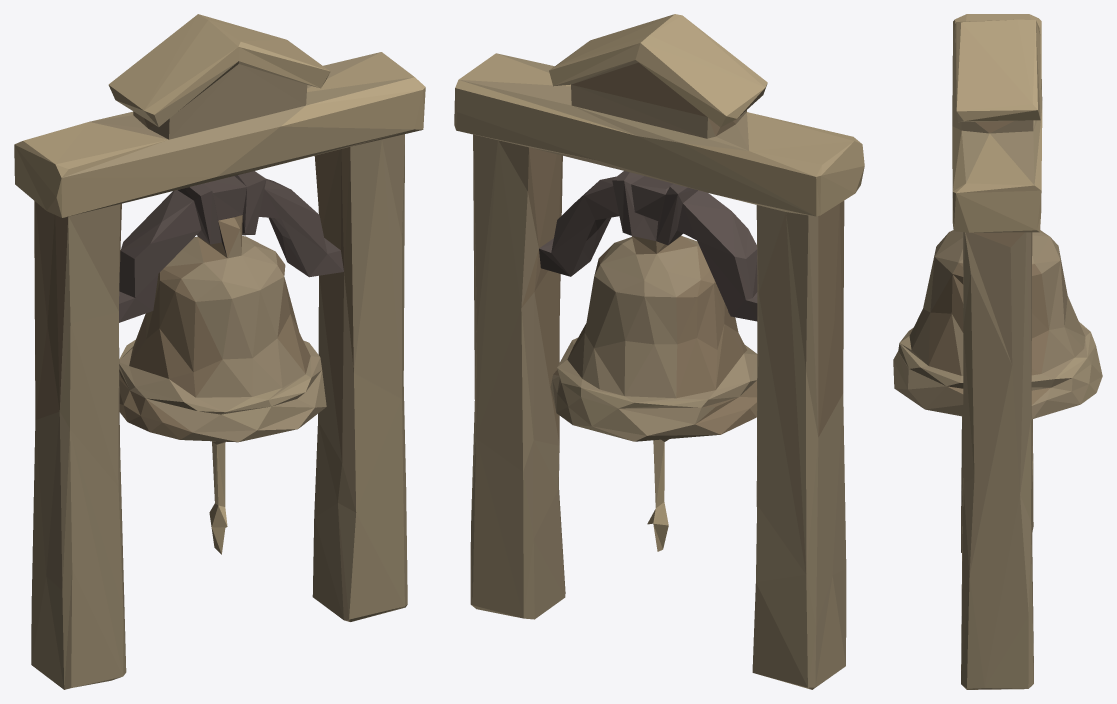
File: bell.glb
The picture shows the model from 3 angles, left to right: view 1: azimuth 30°, elevation 25°; view 2: azimuth 150°, elevation 25°; view 3: azimuth 270°, elevation 25°; orthographic projection. The views are drawn at different scales.
Visible parts, largest first — view 1: Hull; view 2: Hull; view 3: Hull.
Boxes of the visible parts, x1,y1,x2,y2 form: Hull: [14, 14, 425, 689]; Hull: [454, 14, 864, 689]; Hull: [893, 14, 1102, 689].
Bounding box in the file's own units: 0.9496 × 1.5 × 0.4821.
